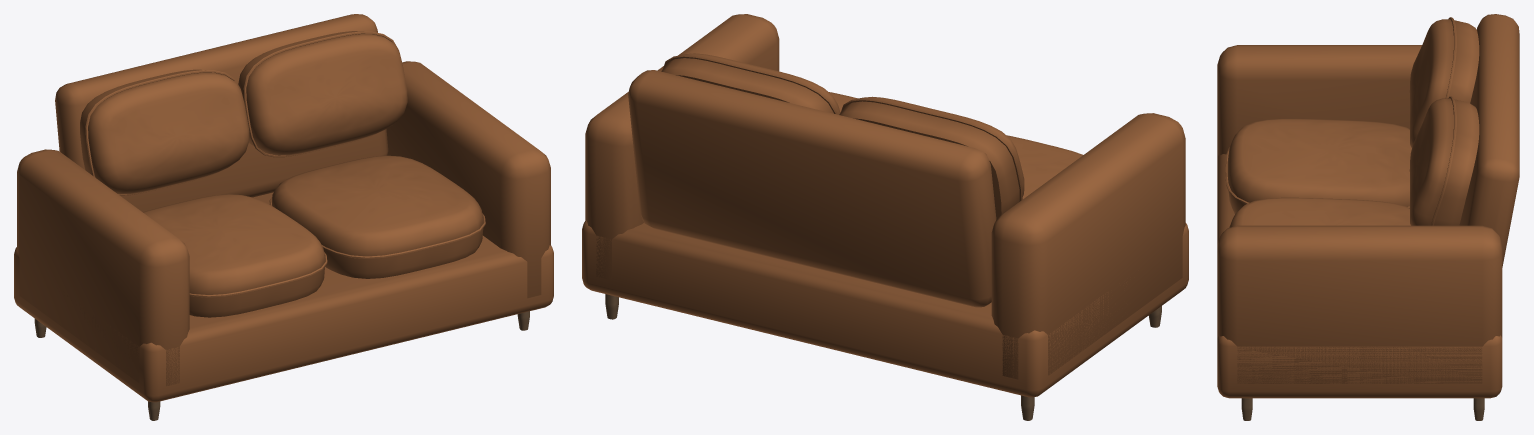
File: whiskey-loveseat-lod0.glb
3 views of the same model, side by side, from view 1: azimuth 30°, elevation 25°; view 2: azimuth 150°, elevation 25°; view 3: azimuth 270°, elevation 25° (orthographic). The views are drawn at different scales.
Parts seen in each view (by area): view 1: whiskey-loveseat.lod0__whiskey cognac leather, whiskey-loveseat.lod0__dining smoked oak; view 2: whiskey-loveseat.lod0__whiskey cognac leather, whiskey-loveseat.lod0__dining smoked oak; view 3: whiskey-loveseat.lod0__whiskey cognac leather, whiskey-loveseat.lod0__dining smoked oak.
Part boxes in pixels (x1,y1,x2,y2): whiskey-loveseat.lod0__whiskey cognac leather: [14, 14, 553, 402]; whiskey-loveseat.lod0__dining smoked oak: [34, 311, 529, 420]; whiskey-loveseat.lod0__whiskey cognac leather: [582, 14, 1188, 397]; whiskey-loveseat.lod0__dining smoked oak: [605, 294, 1161, 420]; whiskey-loveseat.lod0__whiskey cognac leather: [1217, 14, 1519, 398]; whiskey-loveseat.lod0__dining smoked oak: [1241, 398, 1484, 420].
Bounding box in the file's own units: 1.46 × 0.8197 × 0.912.
